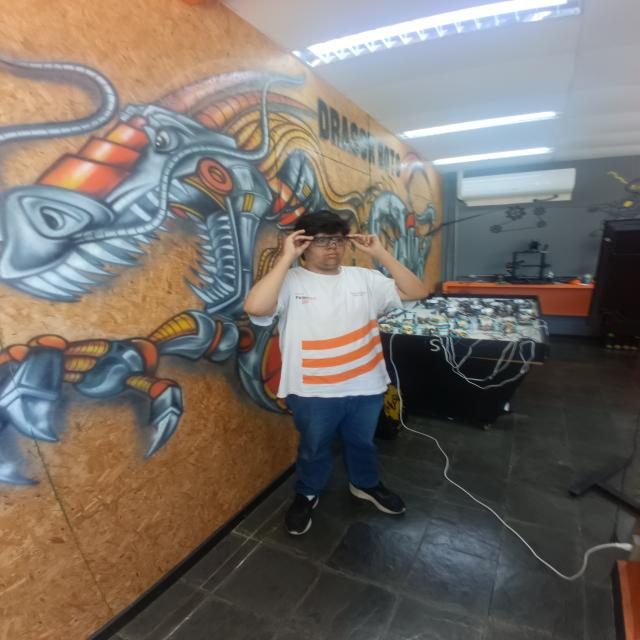oculos-epi: (313, 236, 348, 247)
